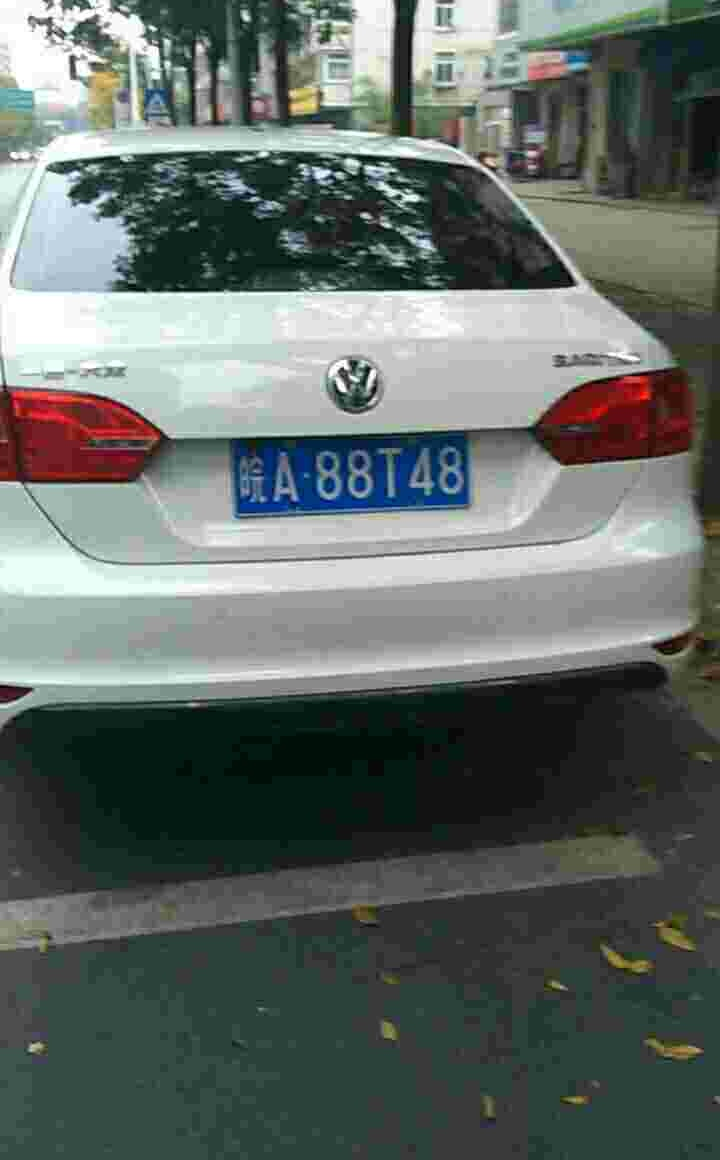car: (224, 441, 476, 514)
